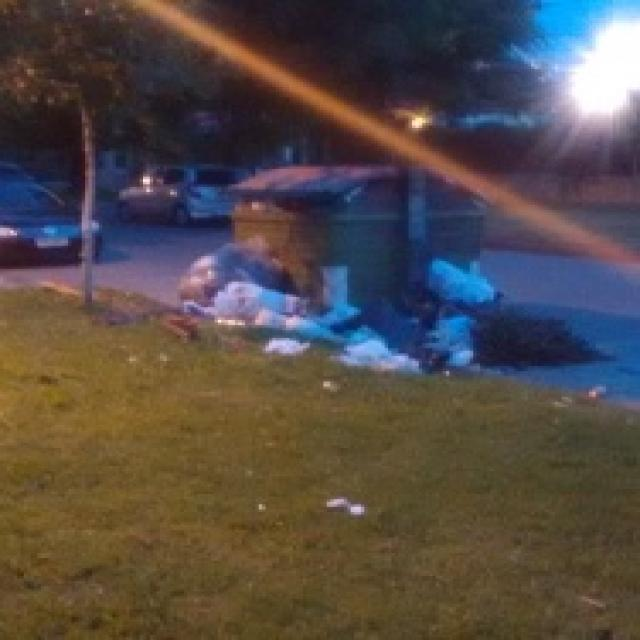garbage: (174, 238, 324, 371), (283, 300, 490, 366), (419, 238, 514, 330)
